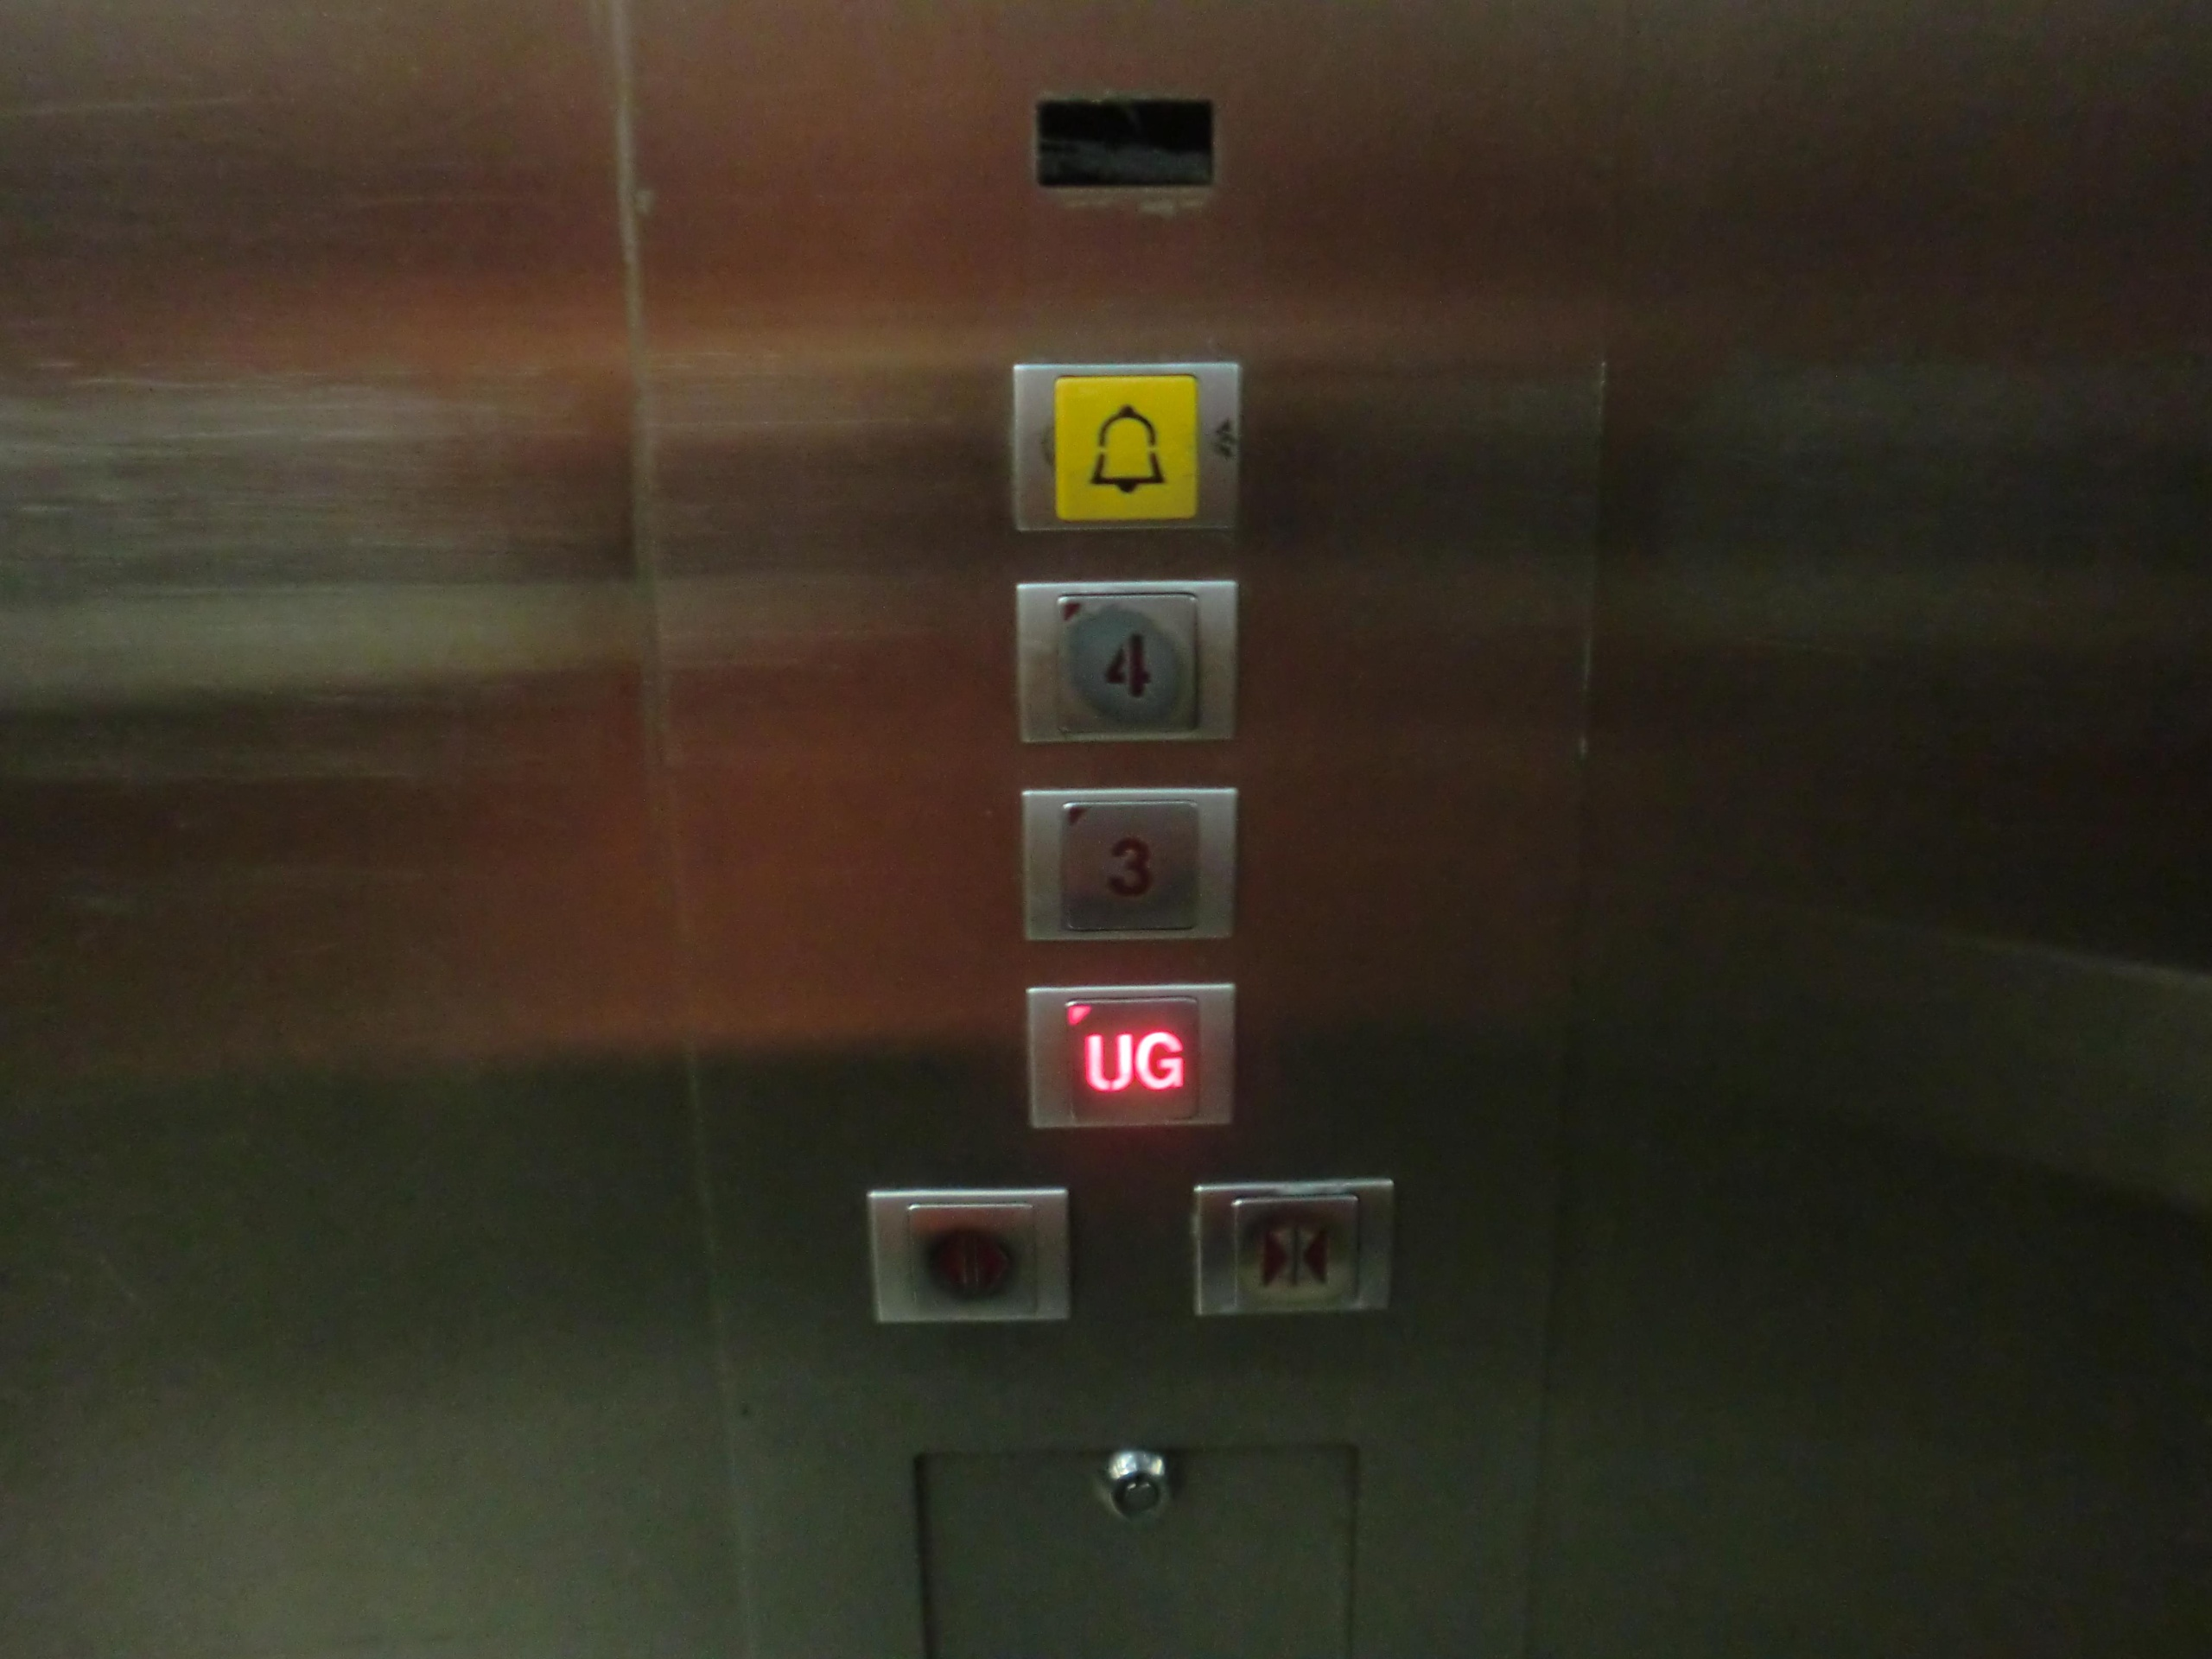3: (1007, 775, 1254, 951)
4: (1000, 565, 1251, 760)
UG: (1015, 974, 1251, 1140)
alarm: (1000, 350, 1251, 545)
close: (1179, 1171, 1407, 1326)
open: (857, 1180, 1087, 1331)
